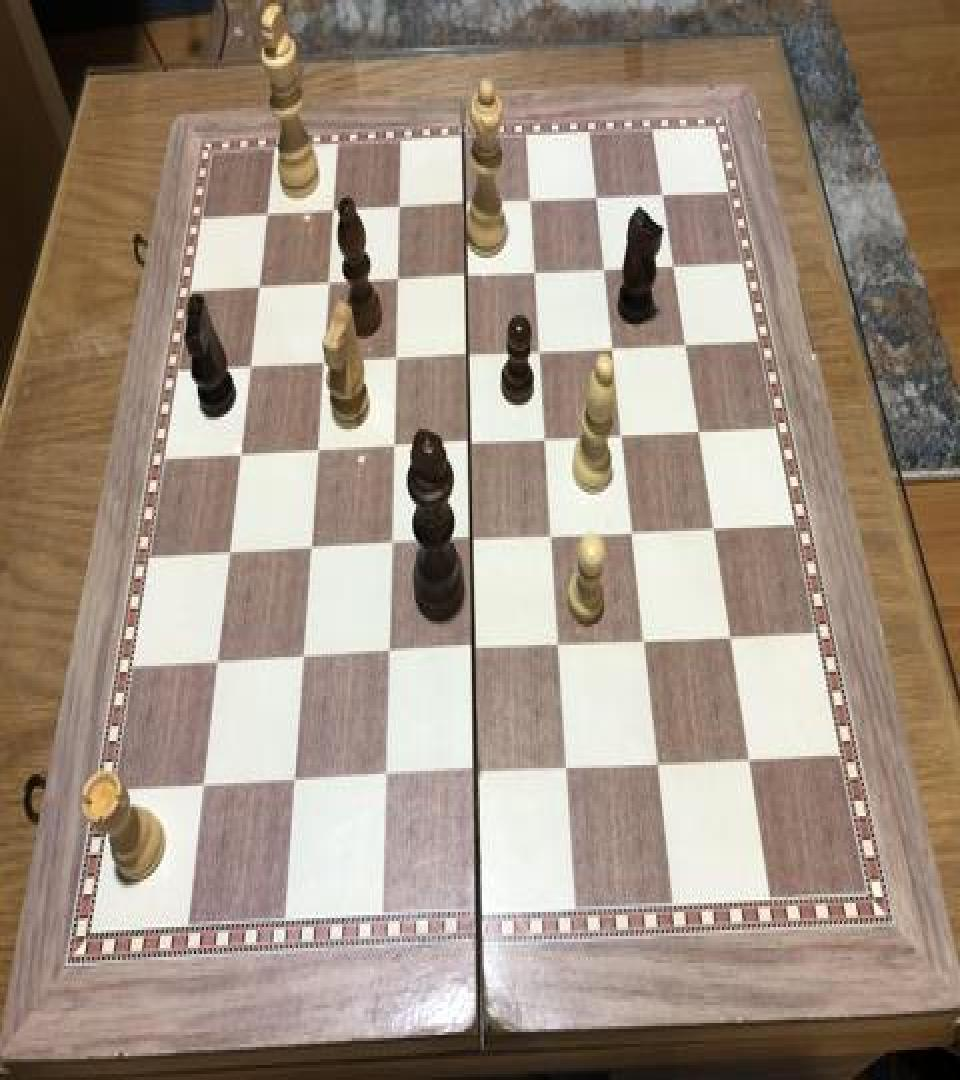xcorner: (460, 520, 484, 557), (648, 176, 672, 212), (583, 178, 607, 214), (518, 182, 542, 218), (453, 184, 477, 220), (387, 189, 411, 225), (322, 192, 346, 228), (256, 195, 280, 231), (659, 246, 683, 282), (591, 249, 615, 285), (523, 254, 547, 290), (454, 256, 478, 292), (386, 261, 410, 297), (317, 264, 341, 300), (248, 267, 272, 303), (671, 324, 695, 360), (528, 332, 552, 368), (456, 336, 480, 372), (384, 339, 408, 375), (239, 348, 263, 384), (685, 411, 709, 447), (609, 414, 633, 450), (533, 418, 557, 454), (458, 423, 482, 459), (382, 428, 406, 464), (229, 435, 253, 471), (699, 507, 723, 543), (620, 512, 644, 548), (540, 516, 564, 552), (379, 525, 403, 561), (299, 530, 323, 566), (219, 534, 243, 570), (716, 615, 740, 651), (631, 620, 655, 656), (547, 624, 571, 660), (462, 628, 486, 664), (377, 633, 401, 669), (292, 639, 316, 675), (206, 644, 230, 680), (735, 736, 759, 772), (645, 741, 669, 777), (555, 746, 579, 782), (464, 752, 488, 788), (374, 756, 398, 792), (283, 762, 307, 798), (193, 766, 217, 802), (600, 329, 624, 364), (312, 344, 336, 379), (306, 431, 330, 466)
